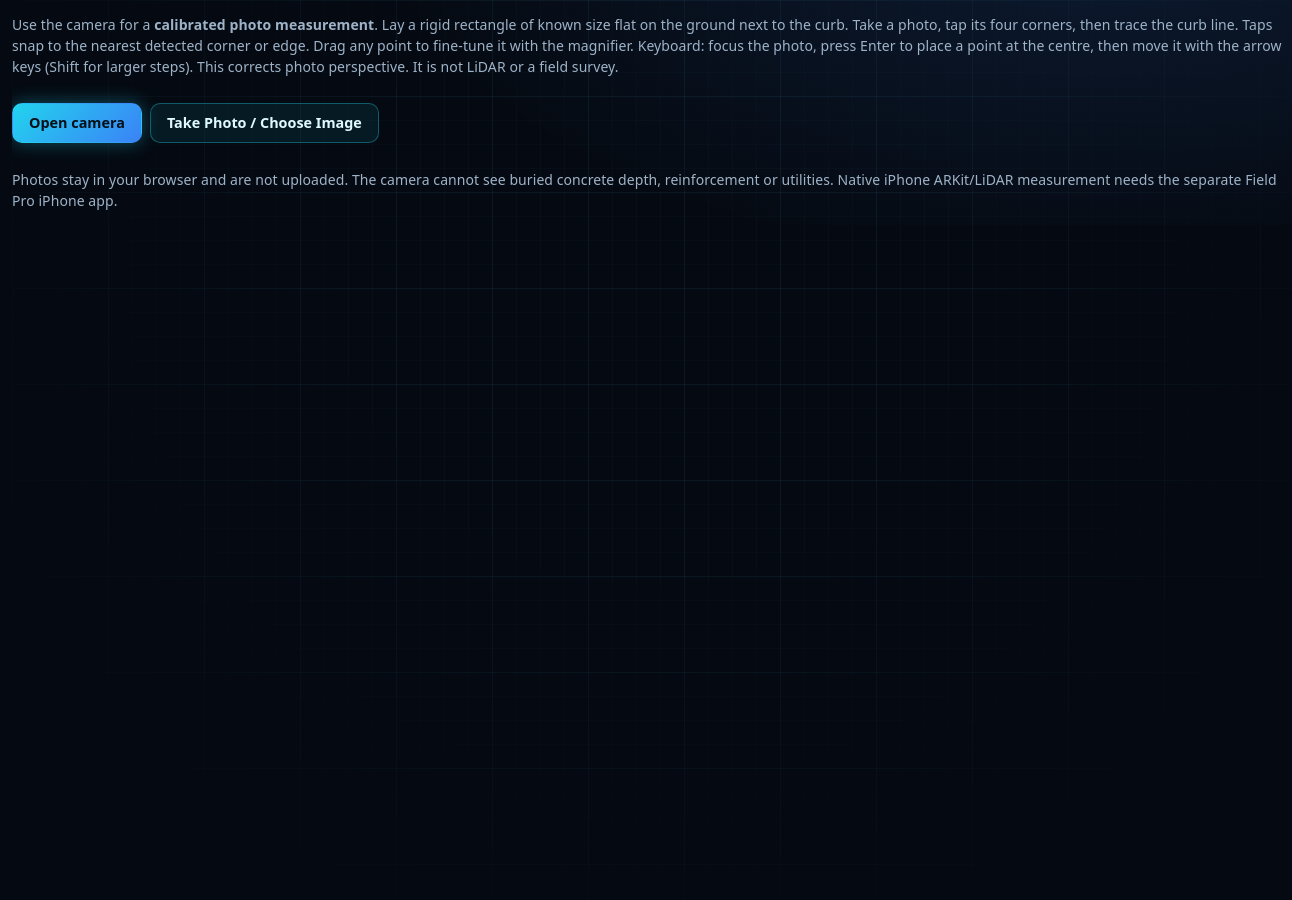
Scenario: CurbCameraMeasure live camera › shows a clear message and keeps the photo option when permission is denied
Click the button "Open camera": (77, 123) top-left (12, 103), bottom-right (142, 143)
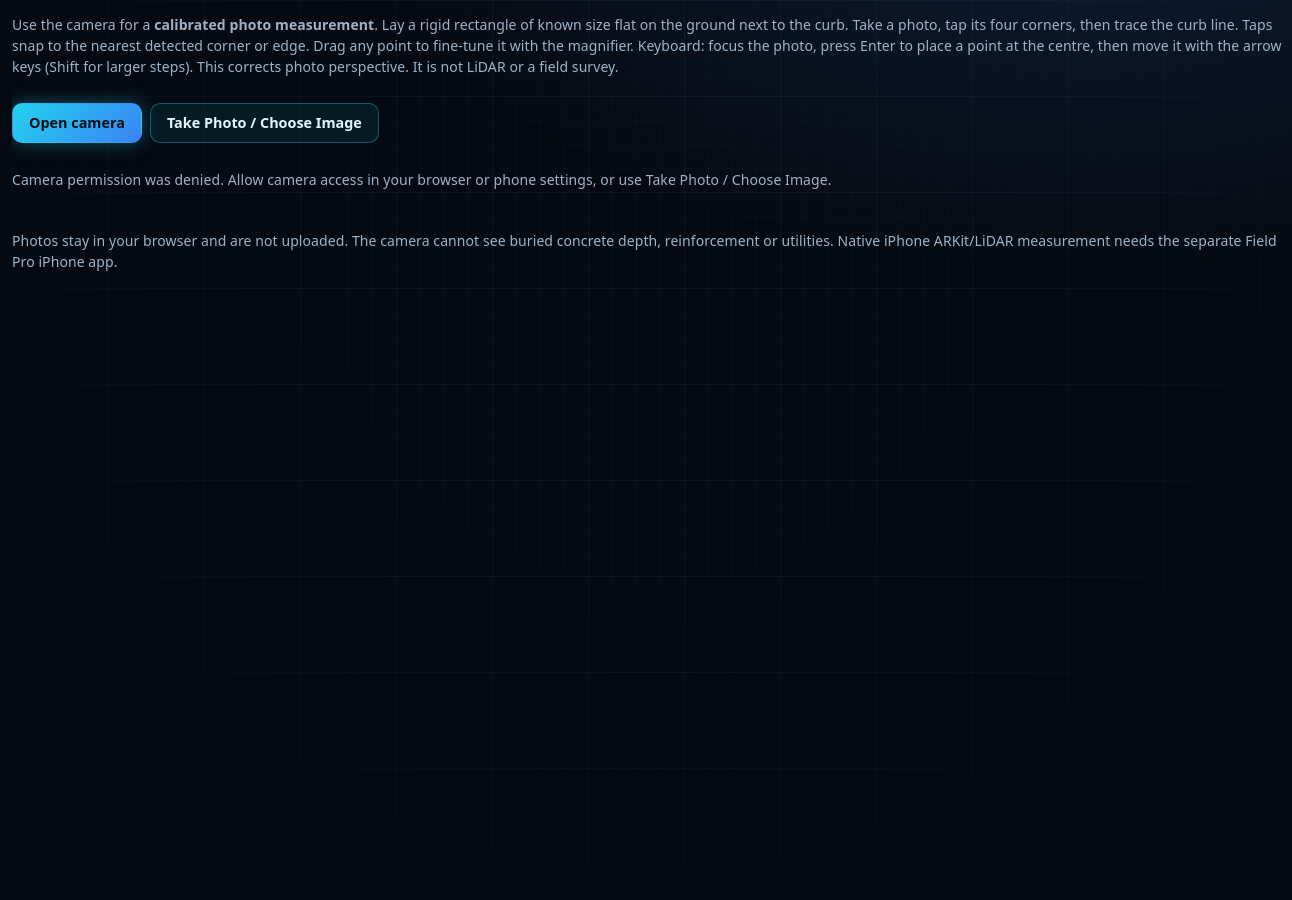
Expected: the button "Take Photo / Choose Image" is shown, top-left (150, 103), bottom-right (379, 143)
Now the message shows "permission was denied", box top-left (12, 170), bottom-right (832, 189)
